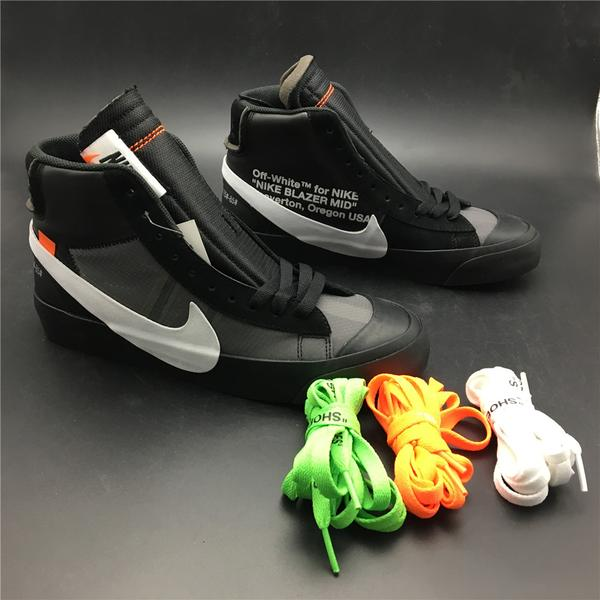Nike Blazer Grim Reaper: (19, 75, 440, 423), (219, 44, 553, 317)
